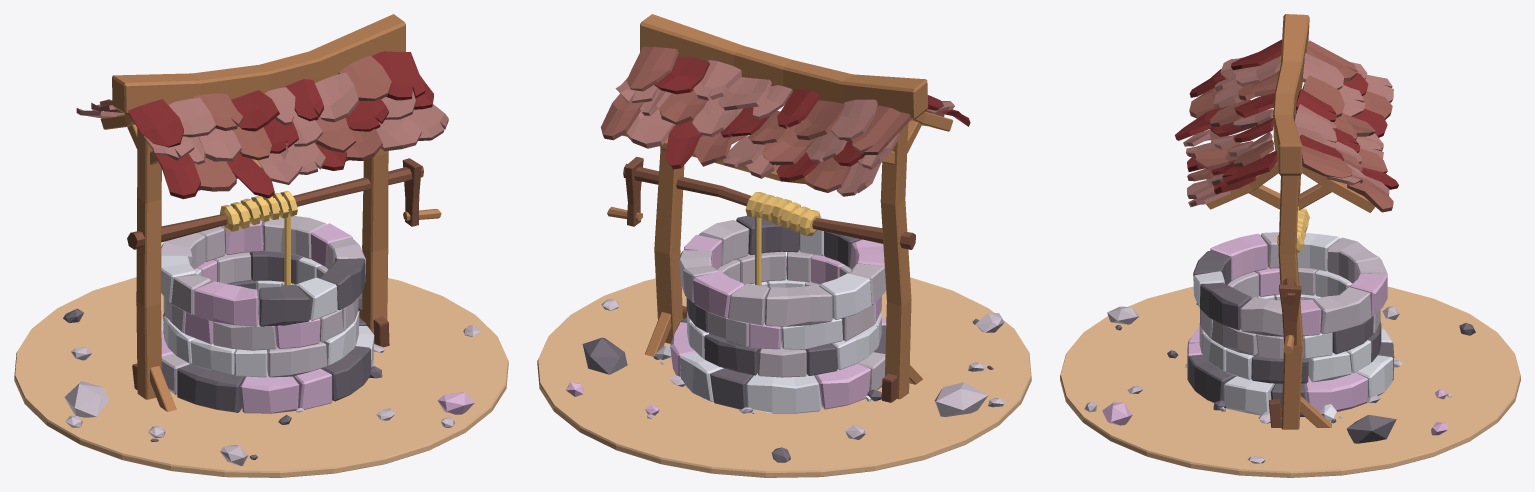
The model's file is pozo_original.glb.
The picture shows the model from 3 angles, left to right: view 1: azimuth 30°, elevation 25°; view 2: azimuth 150°, elevation 25°; view 3: azimuth 270°, elevation 25°; orthographic projection. The views are drawn at different scales.
Parts seen in each view (by area): view 1: Suelo, Teja, Cube.003, Cube.010, Cube, Cube.002, Cube.001, Cube.007, Cube.004, Piedras, Cylinder, Cuerda (+3 smaller); view 2: Suelo, Teja.001, Cube.003, Cube.010, Cube, Cube.002, Cube.007, Cube.001, Piedras, Cube.004, Cylinder, Cuerda (+3 smaller); view 3: Suelo, Cube.003, Teja.001, Teja, Cube, Cube.002, Cube.001, Cube.010, Cube.004, Piedras, Cube.011, Cube.009 (+1 smaller).
Boxes of the visible parts, x1,y1,x2,y2 form: Suelo: (14,277,508,477); Teja: (128,51,448,199); Cube.003: (161,216,365,326); Cube.010: (112,14,405,114); Cube: (161,307,374,413); Cube.002: (163,244,358,350); Cube.001: (163,277,359,377); Cube.007: (136,128,161,399); Cube.004: (362,148,388,343); Piedras: (63,292,480,465); Cylinder: (127,166,423,249); Cuerda: (220,191,297,231); Suelo: (537,277,1031,477); Teja.001: (600,46,911,196); Cube.003: (679,216,885,326); Cube.010: (640,14,928,119); Cube: (670,317,886,413); Cube.002: (686,250,881,349); Cube.007: (880,123,911,399); Cube.001: (687,270,881,377); Piedras: (566,259,1005,462); Cube.004: (654,147,684,343); Cylinder: (623,163,915,249); Cuerda: (745,192,821,235); Suelo: (1060,286,1520,477); Cube.003: (1193,232,1387,336); Teja.001: (1294,40,1398,212); Teja: (1175,39,1281,207); Cube: (1187,327,1394,416); Cube.002: (1200,267,1380,359); Cube.001: (1199,293,1381,383); Cube.010: (1273,14,1309,175); Cube.004: (1278,175,1302,429); Piedras: (1084,303,1475,463); Cube.011: (1302,166,1375,212); Cube.009: (1279,284,1301,345).
Size of the model in its own units: 3274 by 2385 by 3274.
